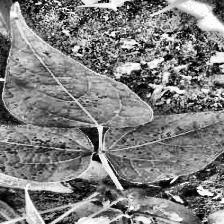ALS: (0, 12, 139, 125), (103, 100, 224, 182), (0, 120, 96, 181)
